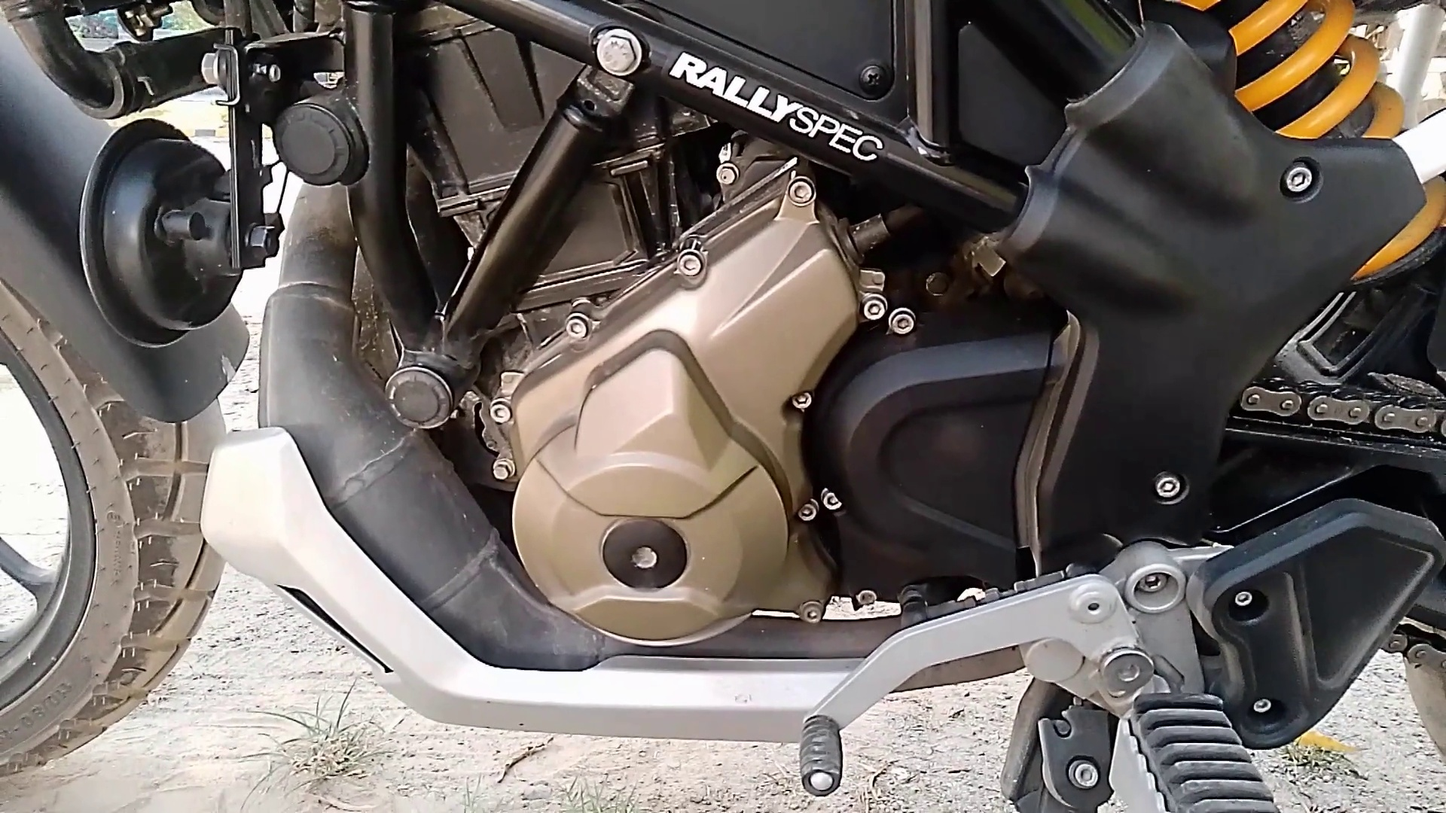engine: (474, 102, 902, 662)
